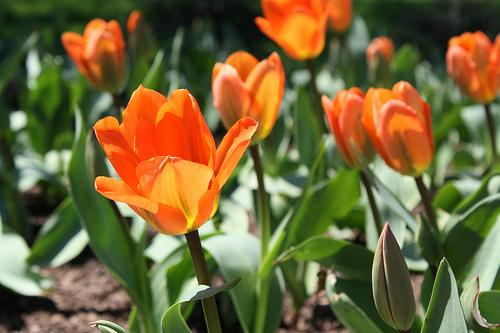tulip: (91, 85, 259, 239), (360, 78, 435, 178), (209, 48, 286, 139), (64, 18, 129, 94), (257, 0, 330, 64), (448, 27, 500, 105)
